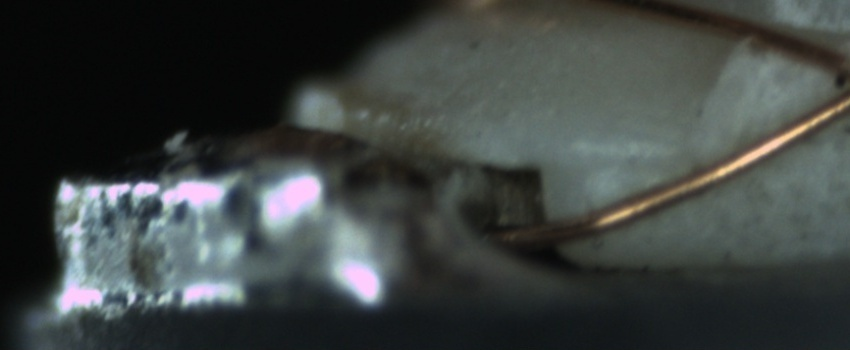DL: (574, 124, 701, 189)
